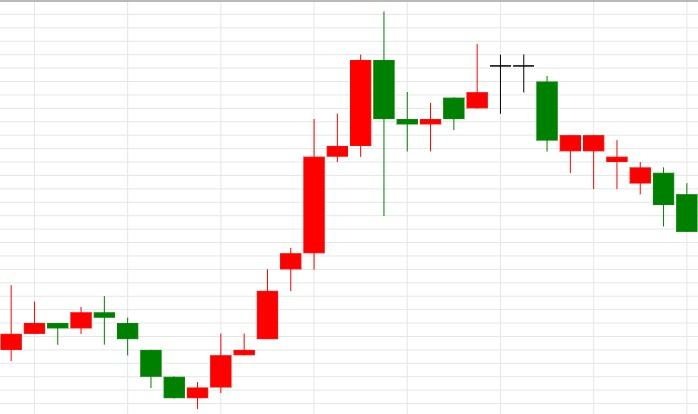hammer_rise: (489, 54, 606, 189)
three_black_crows_fall: (0, 285, 163, 388)
three_white_soldiers_rise: (93, 296, 256, 410)
